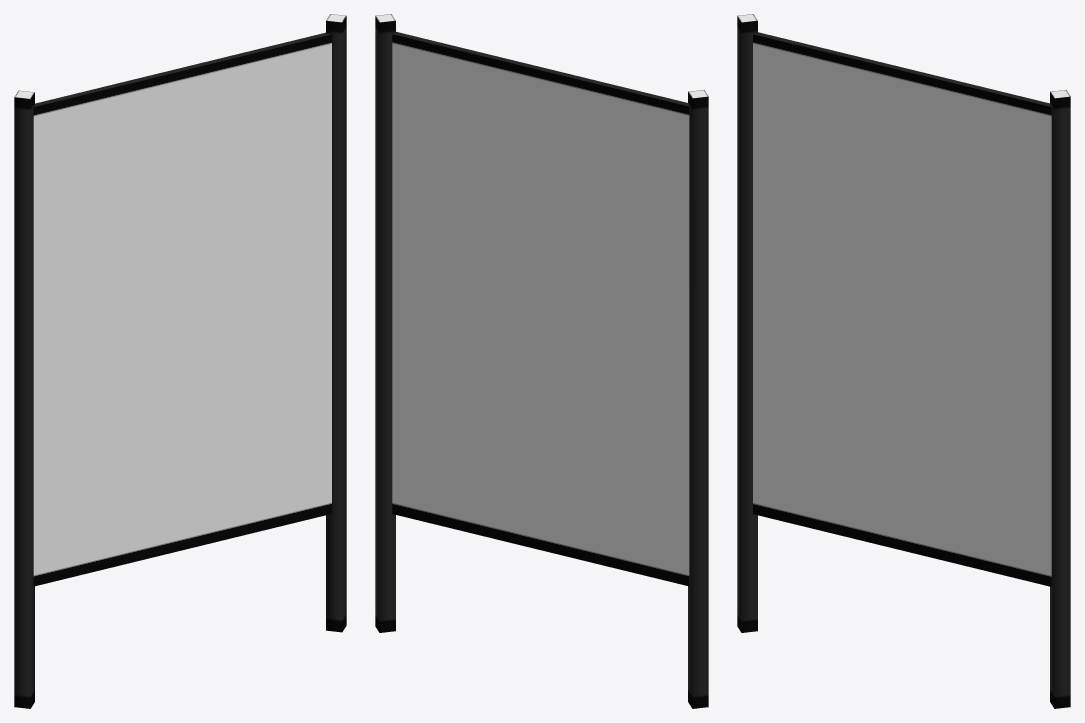
File: InfoPanel_Art.fbx
The picture shows the model from 3 angles, left to right: view 1: azimuth 30°, elevation 25°; view 2: azimuth 150°, elevation 25°; view 3: azimuth 330°, elevation 25°; orthographic projection.
Visible parts, largest first — view 1: InfoPanel_Art; view 2: InfoPanel_Art; view 3: InfoPanel_Art.
Part boxes in pixels (<box>): InfoPanel_Art: <box>14,14,346,708</box>; InfoPanel_Art: <box>375,14,708,708</box>; InfoPanel_Art: <box>737,14,1070,708</box>.
Bounding box in the file's own units: 2.4 × 4.21 × 0.1547.
